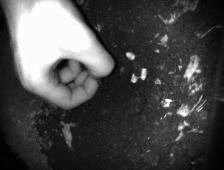corn: (137, 65, 149, 83), (122, 49, 138, 62), (130, 70, 140, 87)
